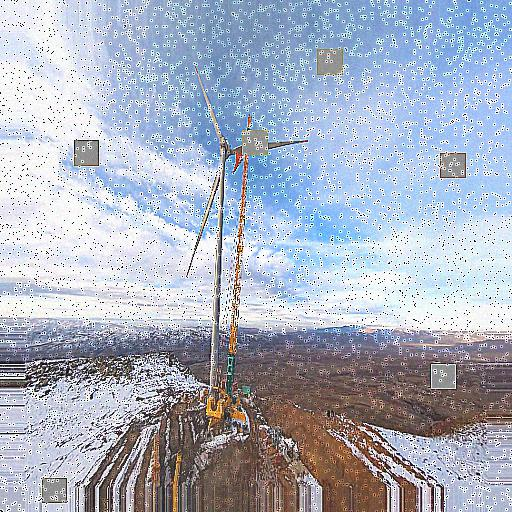wind turbine: (186, 64, 312, 407)
